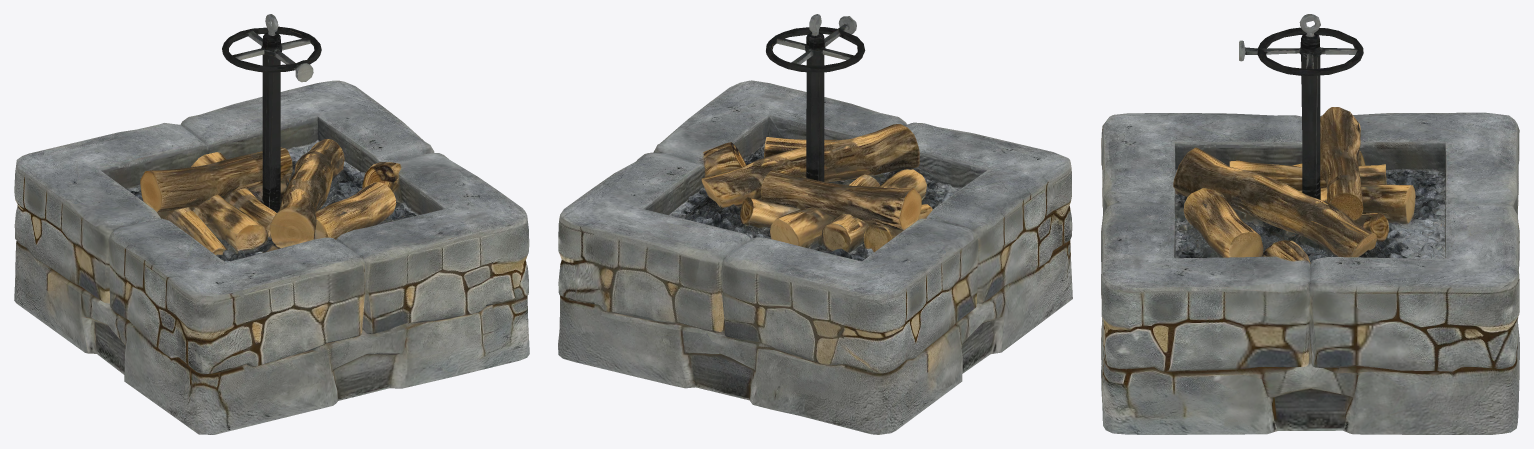
The model's file is fire_pit.glb.
3 renders of one model, left to right at view 1: azimuth 30°, elevation 25°; view 2: azimuth 150°, elevation 25°; view 3: azimuth 270°, elevation 25°, orthographic. The views are drawn at different scales.
Size of the model in its own units: 1.9 by 1.67 by 1.9.
Materials: 1 (1 with a texture image).
